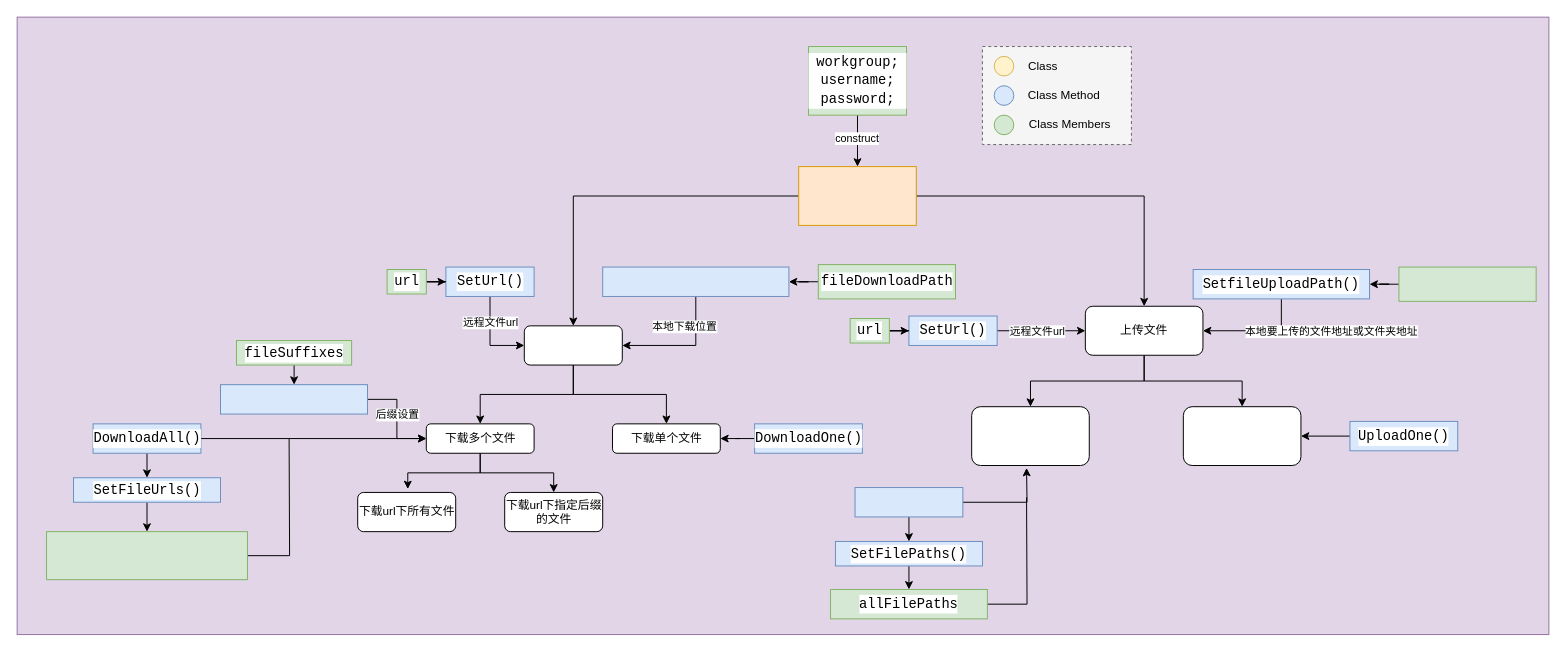
Some shapes in this 1566 by 652 pixel diagram are drawn without their labels. Each missing label, with the centre of its shape:
"fileUploadPath" goes at point (1467, 283).
"SambaTransfer" goes at point (857, 195).
"SetFileDownloadPath()" goes at point (695, 281).
"SetFileSuffixes()" goes at point (294, 399).
"specificSuffixFileUrls allFileUrls" goes at point (146, 555).
"UploadAll()" goes at point (908, 502).
"上传单个文件到url" goes at point (1241, 436).
"上传多个文件到url" goes at point (1030, 436).
"下载文件" goes at point (572, 345).
